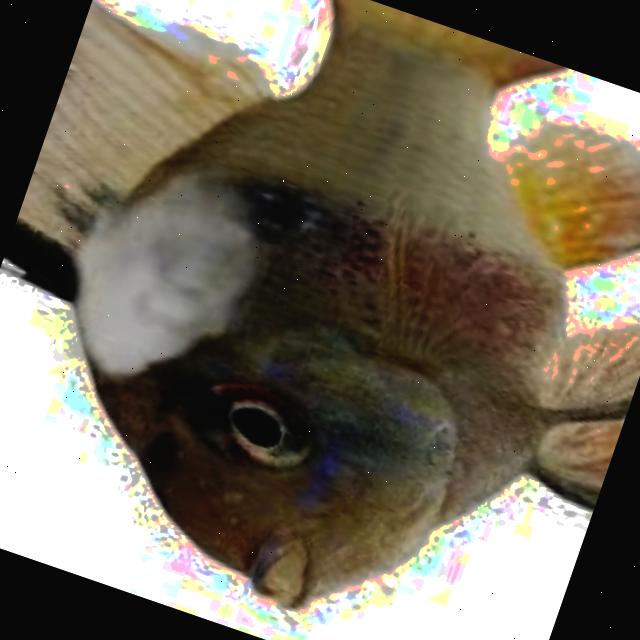Fungal Disease -Saprolegniasis-: (8, 0, 640, 605), (14, 0, 640, 605), (15, 0, 640, 605)
